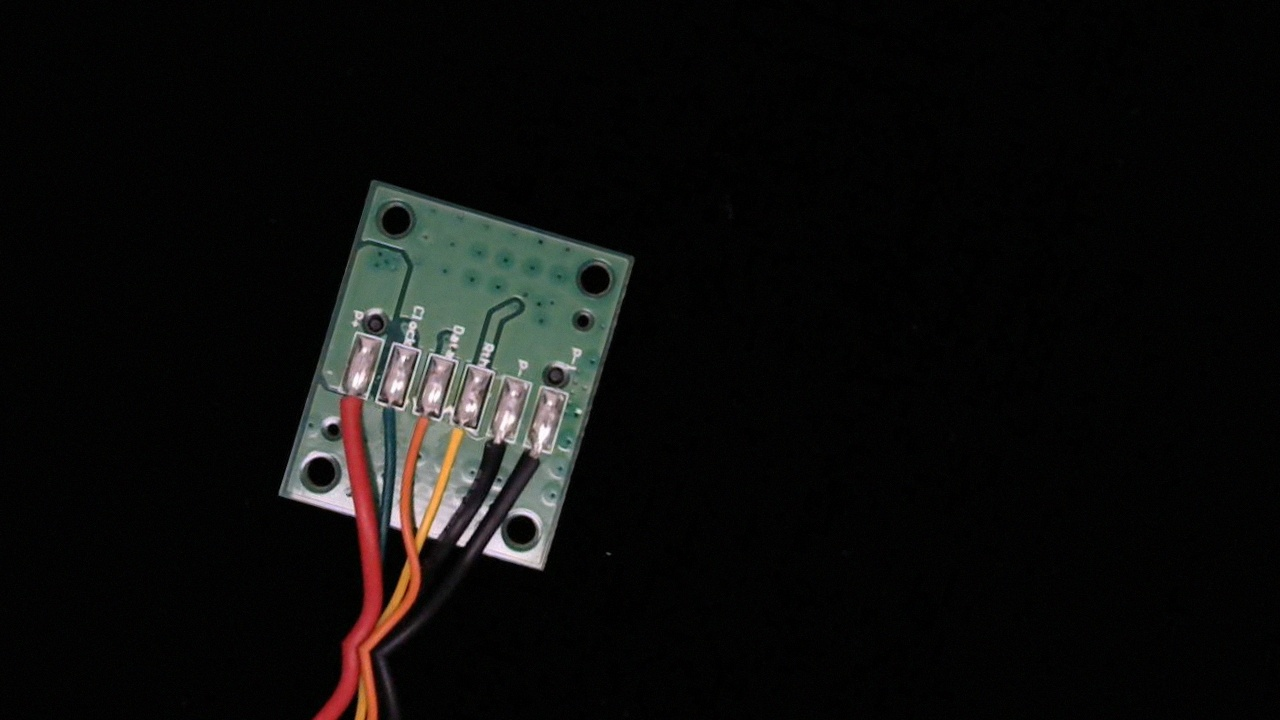Black: (473, 418, 521, 485)
Black1: (509, 427, 560, 500)
Green: (365, 387, 407, 450)
Orange: (398, 396, 446, 464)
Red: (321, 373, 375, 450)
Yellow: (430, 406, 485, 487)
